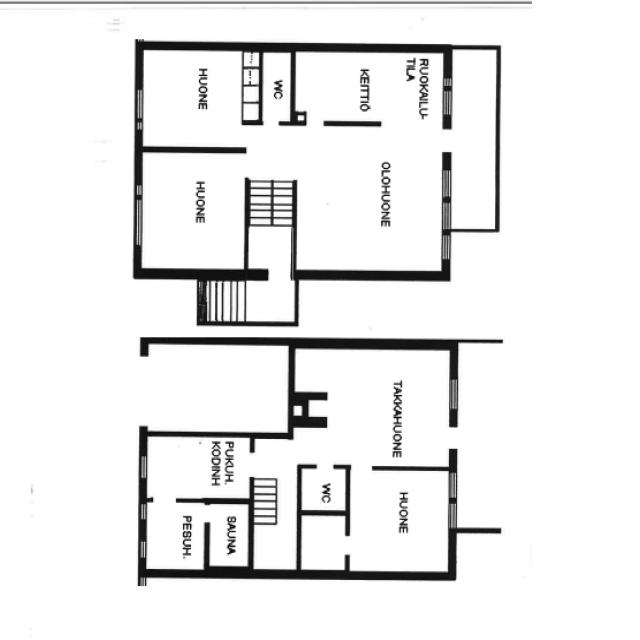window: (131, 184, 146, 250), (439, 174, 454, 237), (446, 472, 460, 530), (133, 84, 147, 134), (446, 374, 462, 415), (440, 82, 455, 121), (439, 165, 454, 203), (440, 228, 453, 264), (136, 452, 150, 483), (136, 536, 148, 562), (137, 499, 148, 523)
zone: (296, 126, 446, 276), (309, 347, 456, 468), (139, 342, 291, 435), (138, 150, 248, 274), (138, 47, 258, 150), (293, 49, 444, 125), (348, 467, 453, 576), (143, 434, 255, 500), (299, 512, 348, 574), (260, 49, 292, 123), (300, 466, 348, 511)
